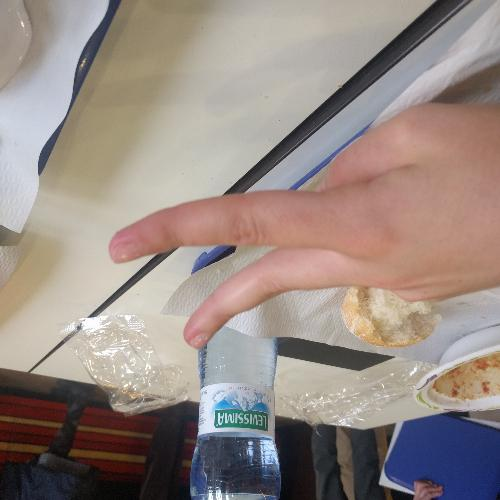scissors: (99, 96, 500, 354)
